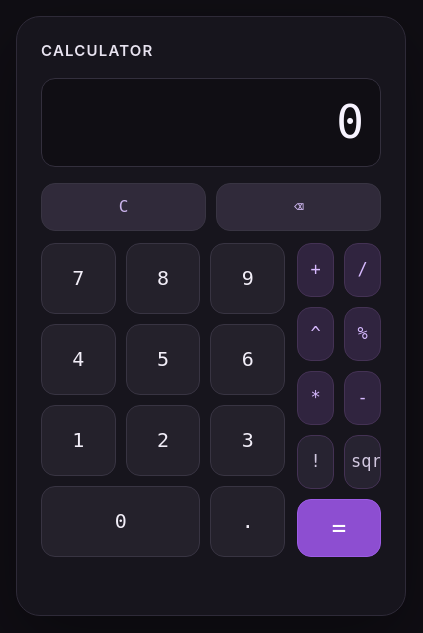
Scenario: calculator entry and controls › runs a unary operation on the pending first operand when no second operand was entered
Expected: the button named "add, binary" is shown, [297,242,334,296]
Click the button "1".
click(78, 440)  # box [41,404,116,476]
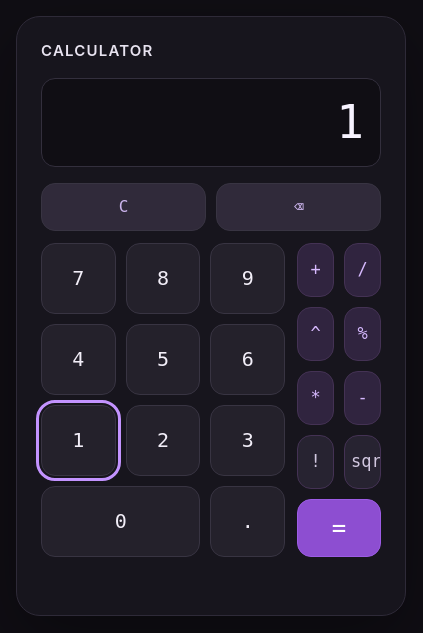
Click the button "6".
click(248, 359)  # box [210,324,285,394]
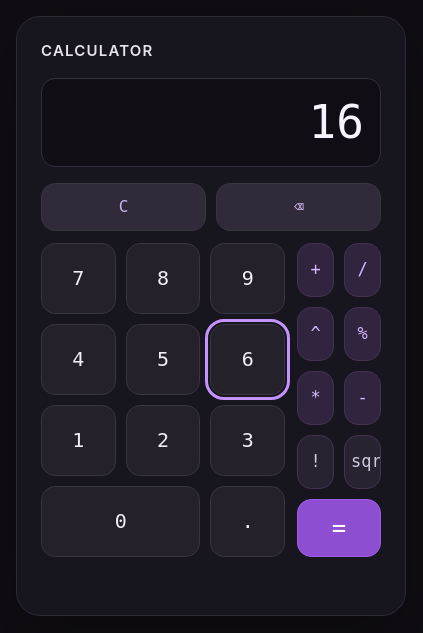
Click the button named "add, binary".
click(316, 270)  # box [297,242,334,296]
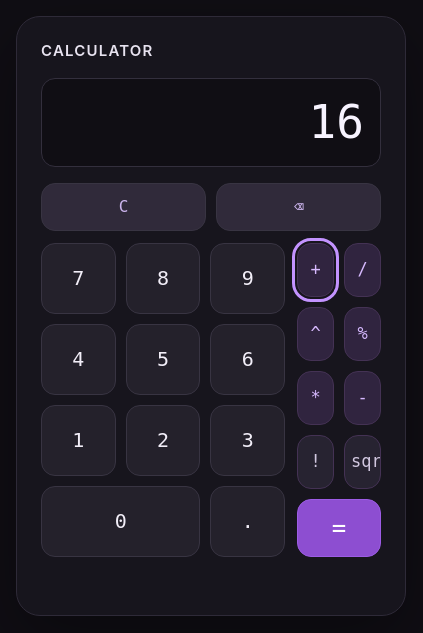
Click the button with aria-label "square_root, unary".
click(362, 462)  # box [344,434,381,488]
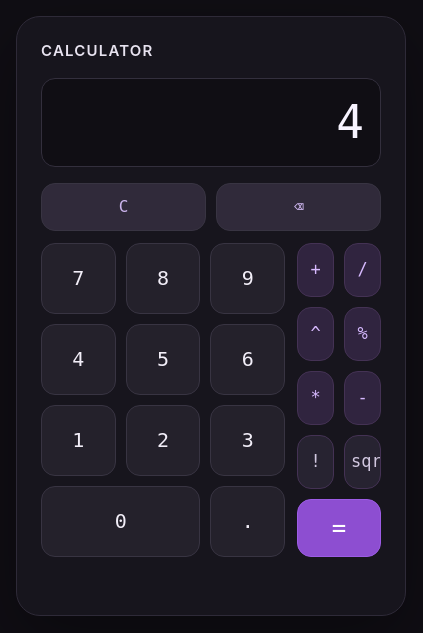
Expected: the element named "Display" reads "4", [336,96,364,150]
